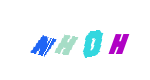0: (34, 0, 114, 80)
H: (32, 0, 112, 80), (69, 0, 149, 80)
N: (30, 0, 110, 80)
